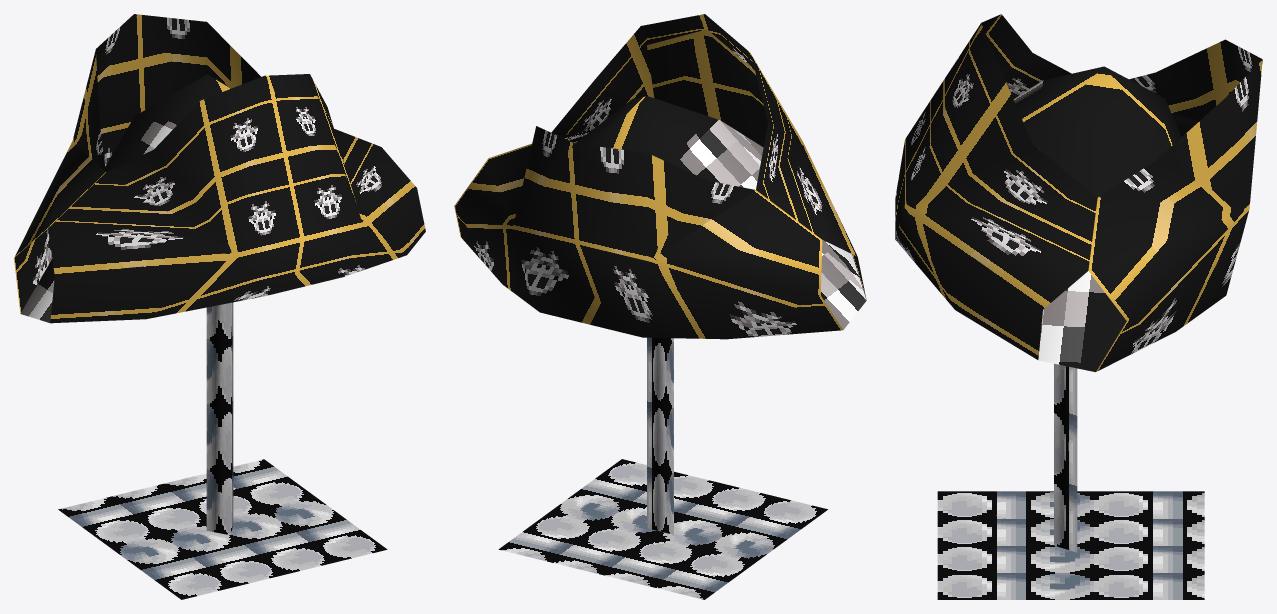
The model's file is 2884head019_c.gltf.
3 renders of one model, left to right at view 1: azimuth 30°, elevation 25°; view 2: azimuth 150°, elevation 25°; view 3: azimuth 270°, elevation 25°, orthographic. The views are drawn at different scales.
Parts seen in each view (by area): view 1: 2884head019_c; view 2: 2884head019_c; view 3: 2884head019_c.
Part boxes in pixels (box(x1,y1,x2,y2)): 2884head019_c: box(14, 14, 425, 599); 2884head019_c: box(454, 14, 866, 599); 2884head019_c: box(895, 14, 1262, 599).
Size of the model in its own units: 0.8569 by 1.05 by 0.6609.
2 materials, 2 textured.
